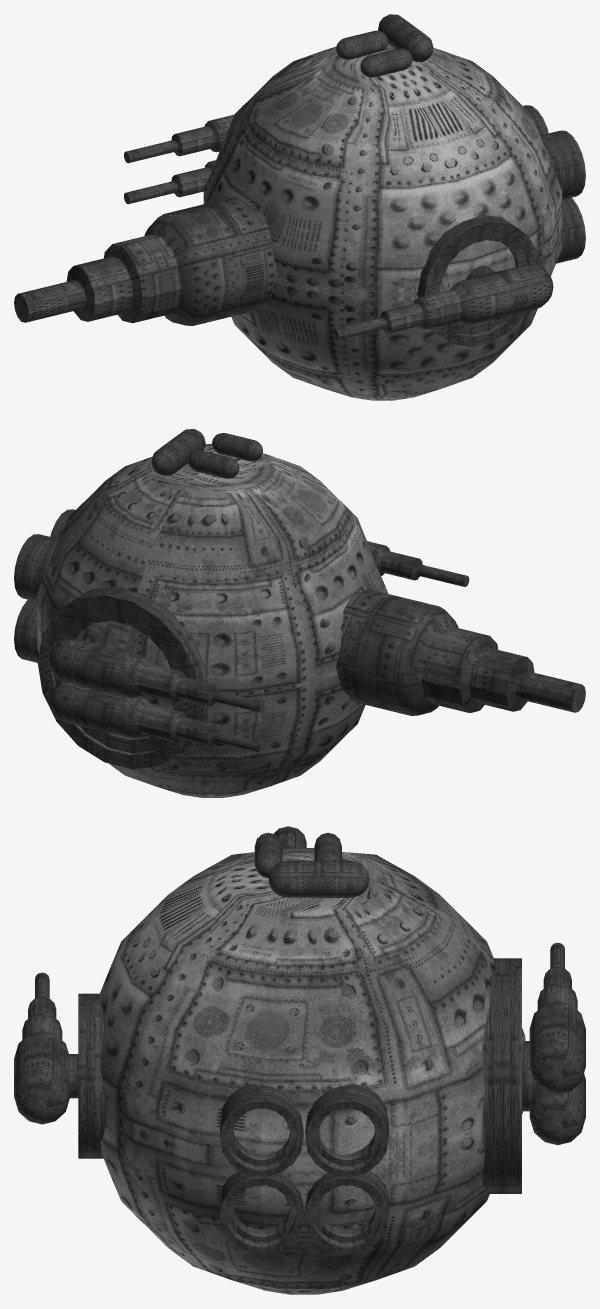
Rendered from GirlShip.FBX.
3 renders of one model, top to bottom at view 1: azimuth 30°, elevation 25°; view 2: azimuth 150°, elevation 25°; view 3: azimuth 270°, elevation 25°, orthographic. The views are drawn at different scales.
Visible parts, largest first — view 1: Sphere001, Capsule004, Capsule001, Cylinder002, Capsule003, Cylinder007, Capsule002, Capsule007, Cylinder005, Capsule006, Capsule005; view 2: Sphere001, Capsule004, Cylinder001, Capsule003, Capsule002, Cylinder008, Capsule001, Capsule007, Cylinder006, Capsule005, Capsule006; view 3: Sphere001, Cylinder001, Capsule003, Capsule001, Cylinder008, Cylinder007, Cylinder002, Cylinder006, Cylinder005, Capsule007, Capsule002, Capsule006 (+2 smaller).
Boxes of the visible parts, box(x1,y1,x2,y2) form: Sphere001: box(203, 44, 562, 400); Capsule004: box(14, 197, 277, 325); Capsule001: box(333, 264, 553, 340); Cylinder002: box(417, 215, 539, 346); Capsule003: box(124, 114, 234, 163); Cylinder007: box(540, 130, 585, 199); Capsule002: box(124, 160, 215, 204); Capsule007: box(378, 14, 433, 61); Cylinder005: box(556, 197, 585, 263); Capsule006: box(360, 48, 412, 77); Capsule005: box(336, 30, 388, 59); Sphere001: box(37, 444, 388, 797); Capsule004: box(336, 589, 585, 715); Cylinder001: box(37, 586, 208, 769); Capsule003: box(49, 639, 264, 712); Capsule002: box(49, 681, 264, 752); Cylinder008: box(14, 534, 58, 601); Capsule001: box(367, 541, 469, 586); Capsule007: box(151, 429, 205, 475); Cylinder006: box(14, 599, 38, 662); Capsule005: box(188, 450, 239, 478); Capsule006: box(212, 433, 262, 461); Sphere001: box(98, 848, 525, 1294); Cylinder001: box(482, 958, 521, 1193); Capsule003: box(529, 942, 585, 1094); Capsule001: box(14, 972, 70, 1124); Cylinder008: box(305, 1084, 388, 1176); Cylinder007: box(220, 1084, 303, 1176); Cylinder002: box(78, 993, 106, 1158); Cylinder006: box(305, 1170, 388, 1253); Cylinder005: box(220, 1171, 303, 1253); Capsule007: box(268, 860, 369, 897); Capsule002: box(529, 1074, 585, 1145); Capsule006: box(254, 832, 282, 877).
Bounding box in the file's own units: 58.78 × 36.41 × 43.9.
2 materials, 2 textured.
